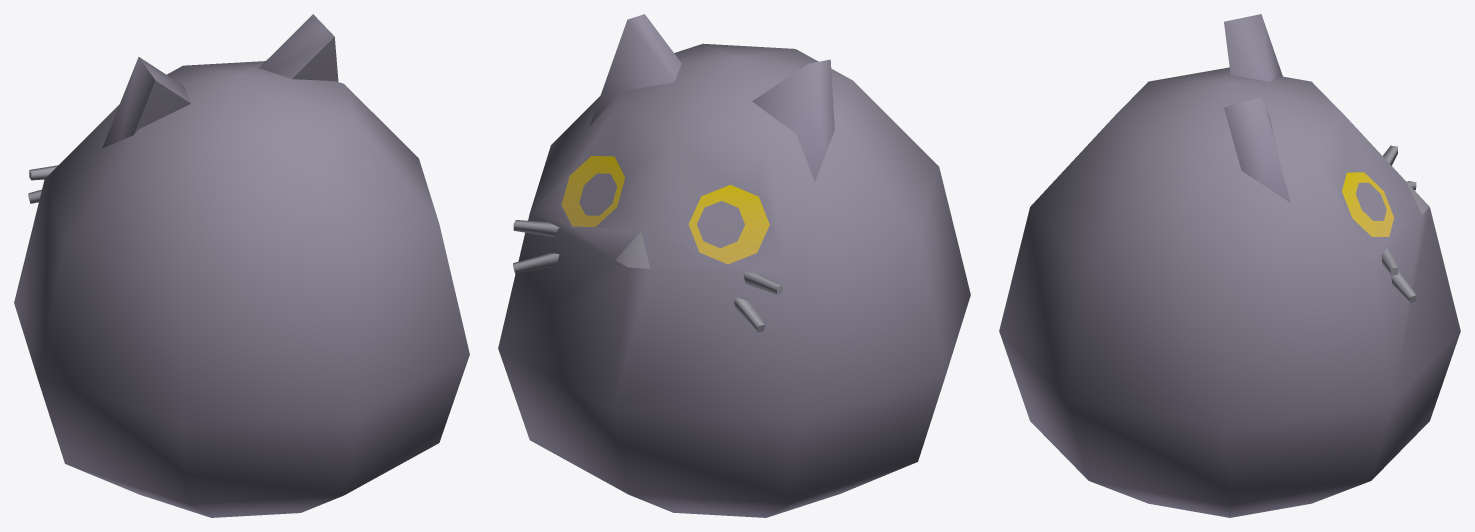
Rendered from plush-cat.glb.
The picture shows the model from 3 angles, left to right: view 1: azimuth 30°, elevation 25°; view 2: azimuth 150°, elevation 25°; view 3: azimuth 270°, elevation 25°; orthographic projection. The views are drawn at different scales.
Visible parts, largest first — view 1: plush-cat; view 2: plush-cat; view 3: plush-cat.
Boxes of the visible parts, box(x1,y1,x2,y2) form: plush-cat: box(14, 14, 469, 517); plush-cat: box(498, 14, 970, 517); plush-cat: box(999, 14, 1460, 517).
Bounding box in the file's own units: 0.7 × 0.6918 × 0.7.
